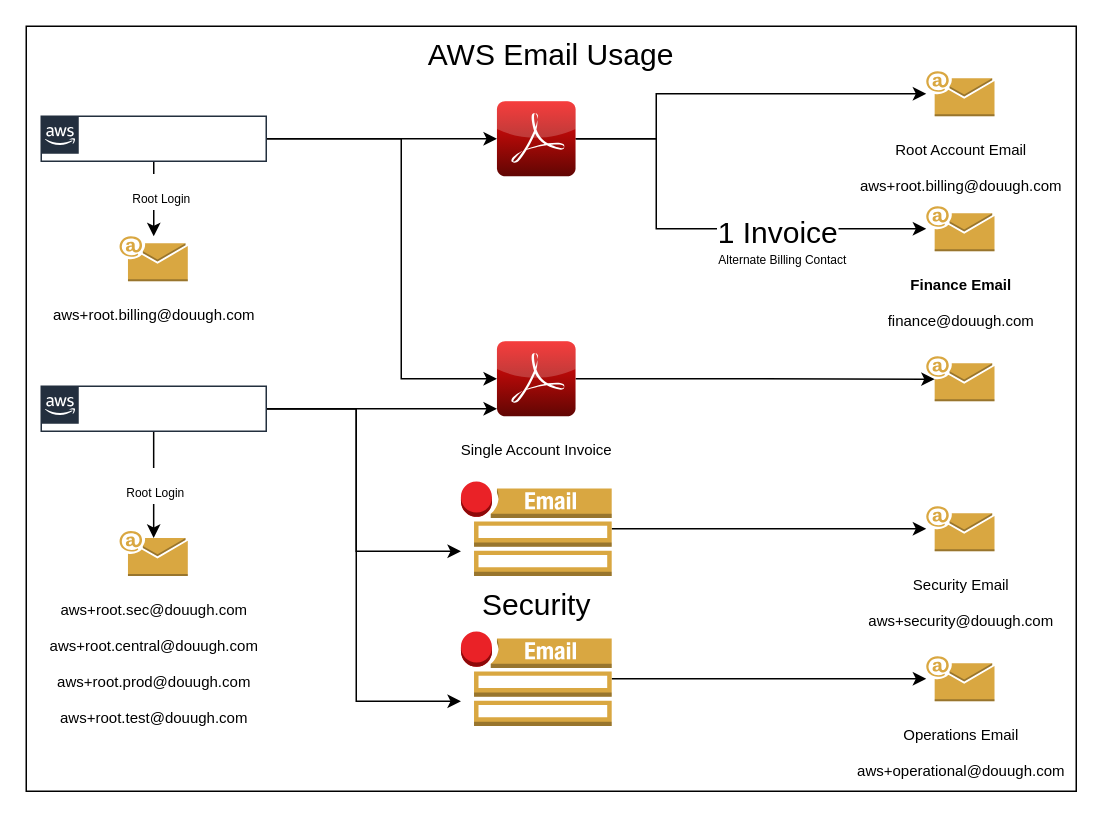
Some shapes in this 1103 by 818 pixel diagram are drawn without their labels. Each missing label, with the box of its shape:
All Accounts: (40, 385, 266, 431)
Consolidated Invoice: (495, 100, 576, 176)
IT Budgets Email aws+it@douugh.com: (925, 355, 994, 401)
Management Account: (40, 115, 266, 161)
Operations: (459, 630, 612, 726)
